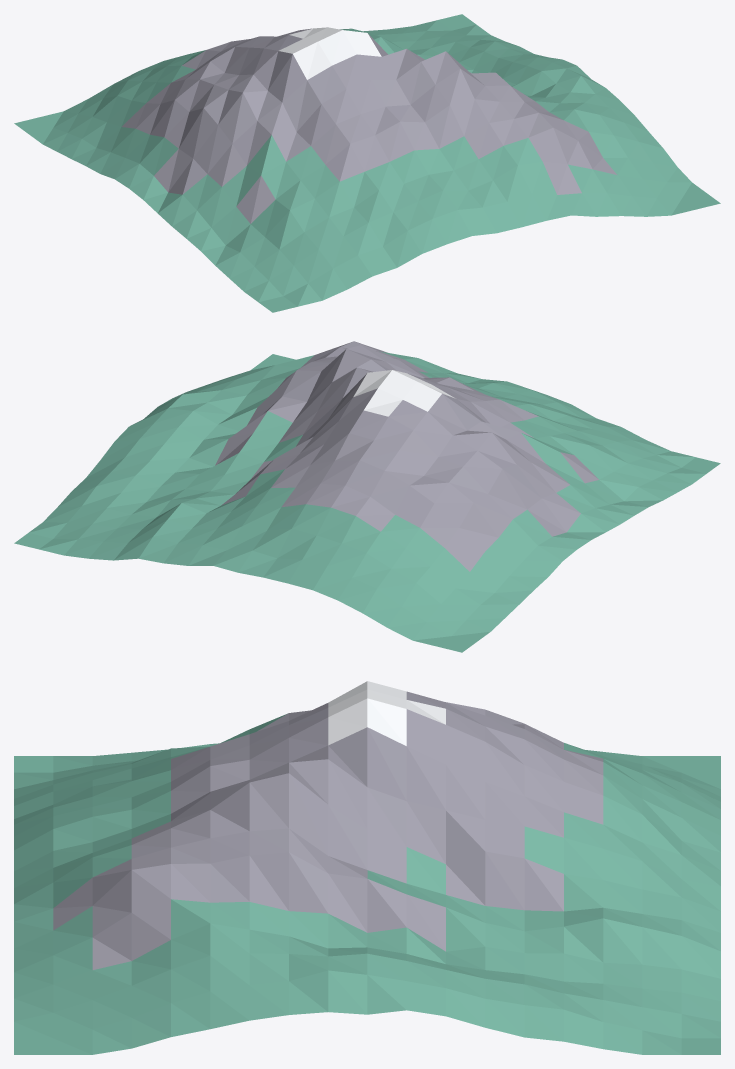
The model's file is terrain.glb.
3 renders of one model, top to bottom at view 1: azimuth 30°, elevation 25°; view 2: azimuth 150°, elevation 25°; view 3: azimuth 270°, elevation 25°, orthographic. The views are drawn at different scales.
Parts seen in each view (by area): view 1: terrain; view 2: terrain; view 3: terrain.
Part boxes in pixels (x1,y1,x2,y2): terrain: (14, 14, 720, 312); terrain: (14, 341, 720, 652); terrain: (14, 681, 720, 1054).
Size of the model in its own units: 2 by 0.5949 by 2.
